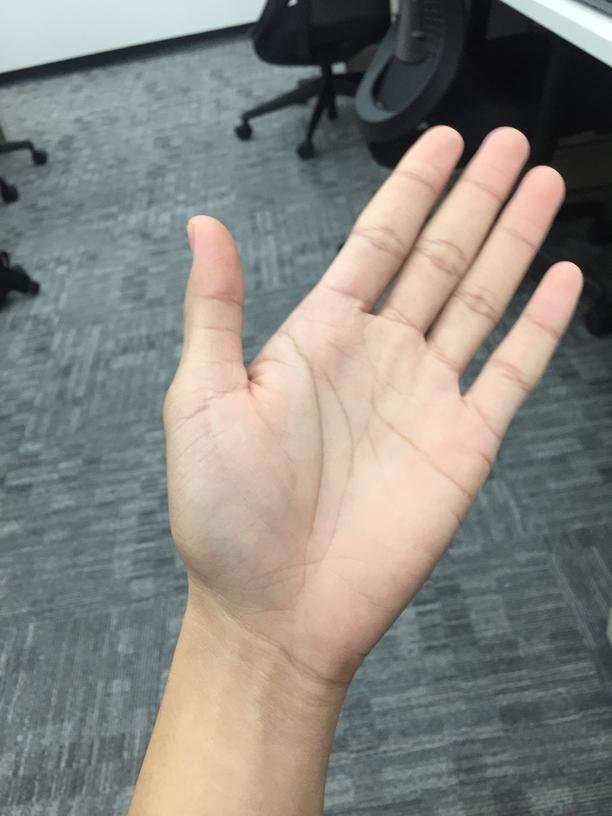hand: (162, 126, 585, 660)
